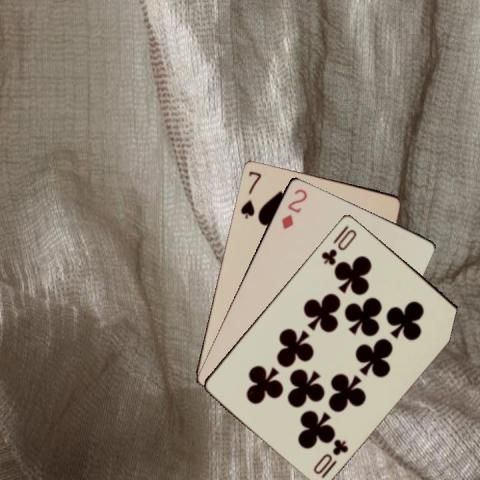10c: (318, 221, 358, 267), (310, 435, 350, 479)
2d: (278, 185, 309, 230)
7s: (237, 167, 263, 220)
